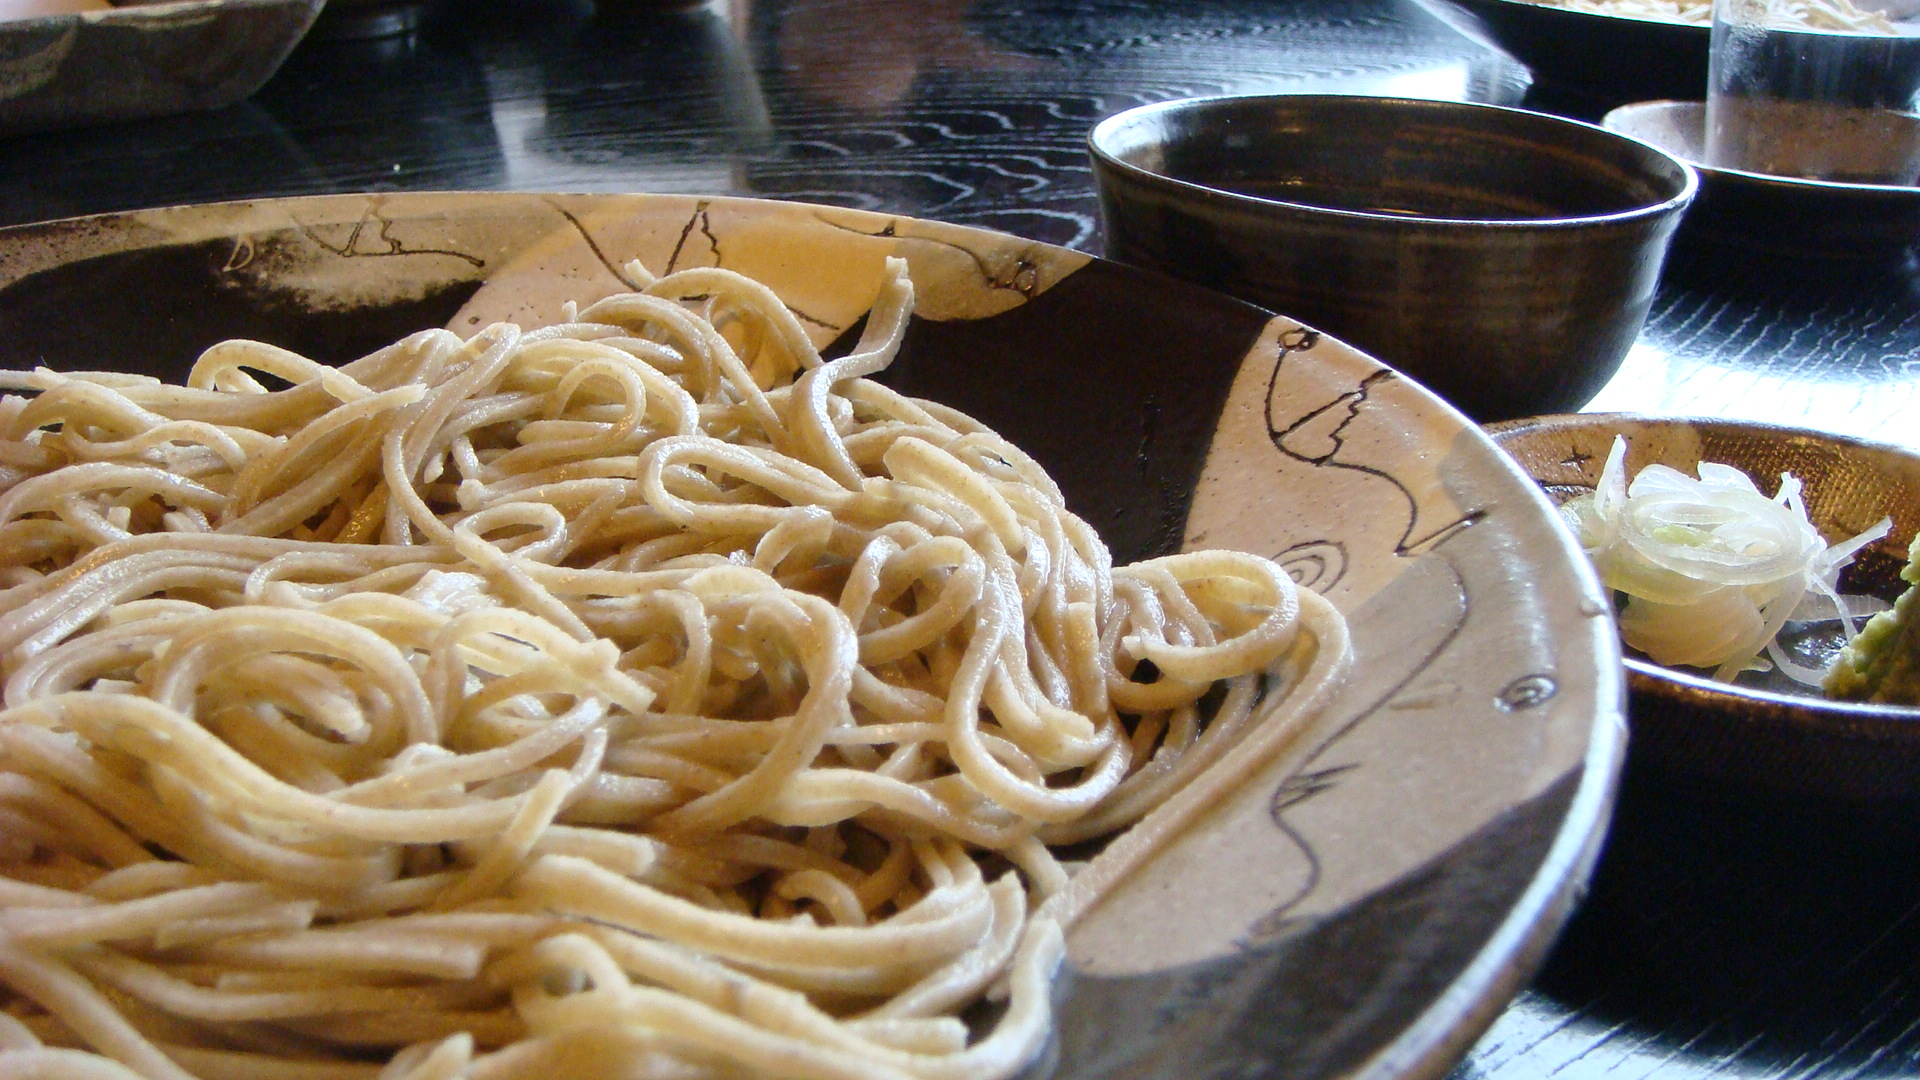Soba: (26, 286, 1377, 1080)
